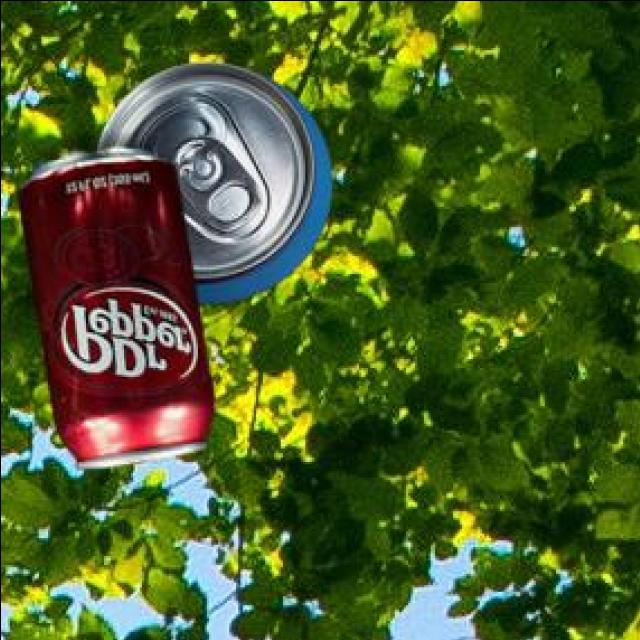logam: (15, 149, 209, 471), (93, 66, 328, 305)
